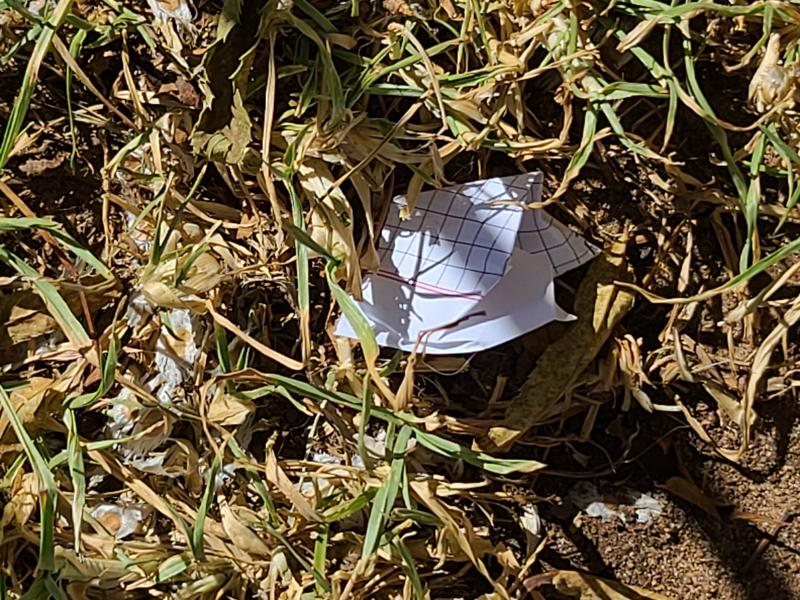papel: (360, 171, 602, 358), (350, 174, 564, 360)
